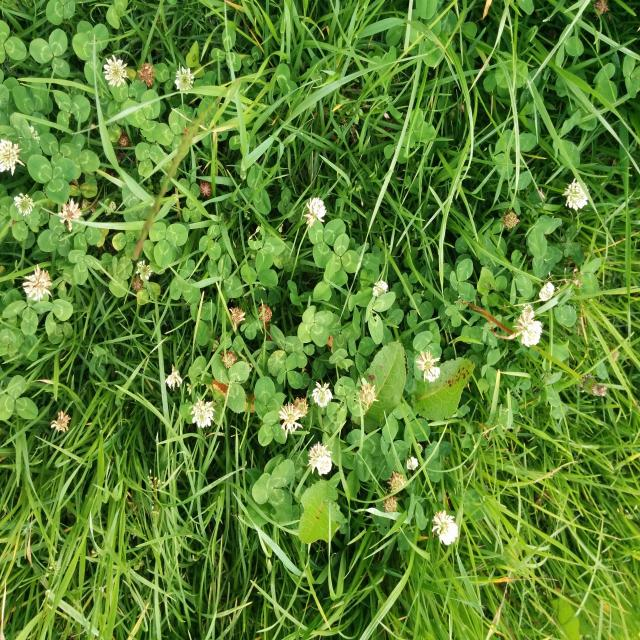Four Leaf Clover: (298, 306, 332, 347)
